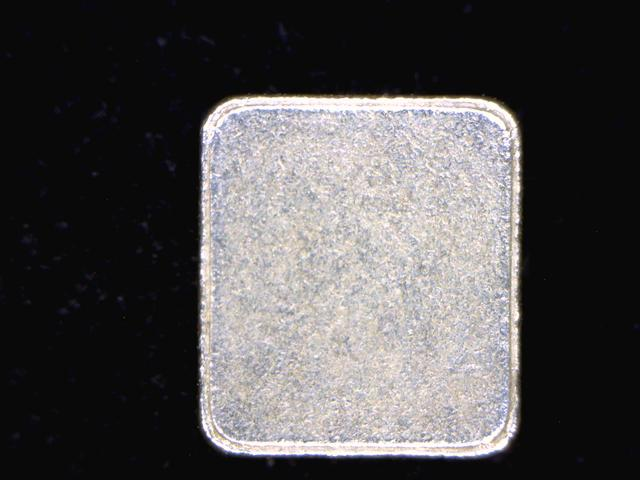nok: (190, 87, 534, 462)
